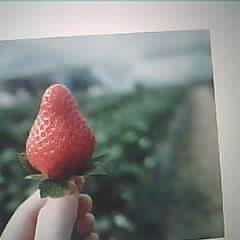straw-ripe: (27, 85, 95, 176)
